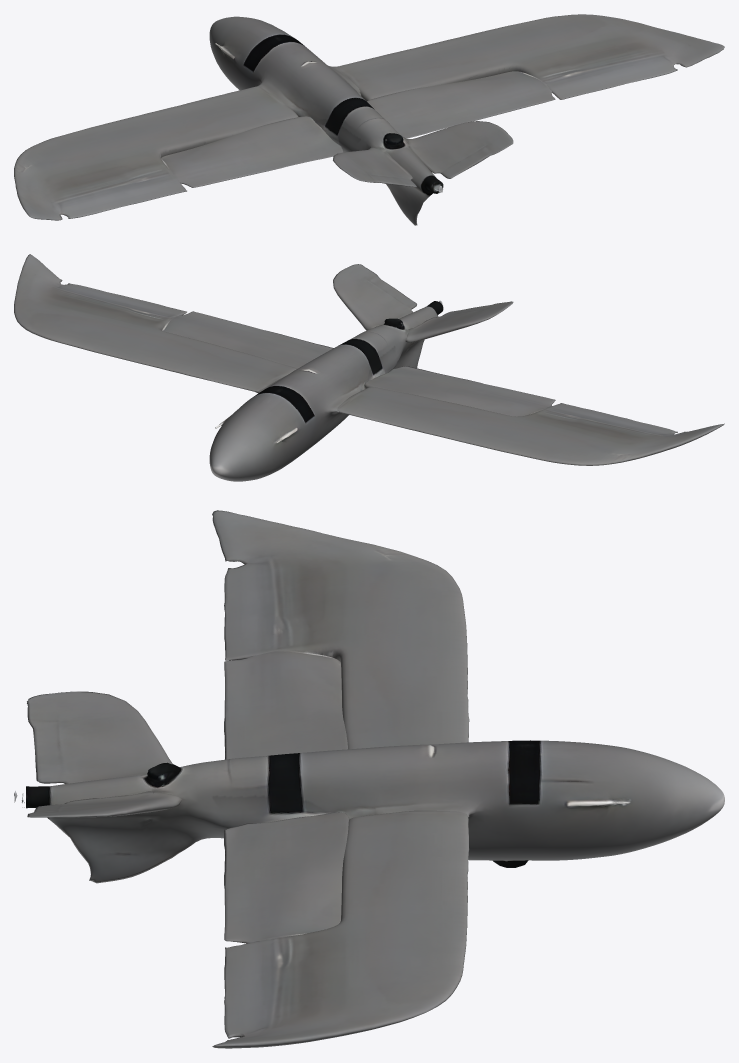
File: uav_correct_orientation.glb
3 renders of one model, top to bottom at view 1: azimuth 30°, elevation 25°; view 2: azimuth 150°, elevation 25°; view 3: azimuth 270°, elevation 25°, orthographic. The views are drawn at different scales.
Visible parts, largest first — view 1: Object_2, Object_3, Object_4; view 2: Object_2, Object_3, Object_4; view 3: Object_2, Object_3, Object_4.
Boxes of the visible parts, x1,y1,x2,y2 form: Object_2: [209, 14, 724, 225]; Object_3: [14, 71, 555, 220]; Object_4: [160, 116, 513, 187]; Object_2: [14, 254, 443, 481]; Object_3: [160, 311, 724, 465]; Object_4: [333, 264, 555, 416]; Object_2: [14, 740, 724, 1048]; Object_3: [21, 510, 469, 946]; Object_4: [27, 643, 347, 817].
Bounding box in the file's own units: 1.9 × 0.2278 × 1.07.
1 material, 1 textured.
